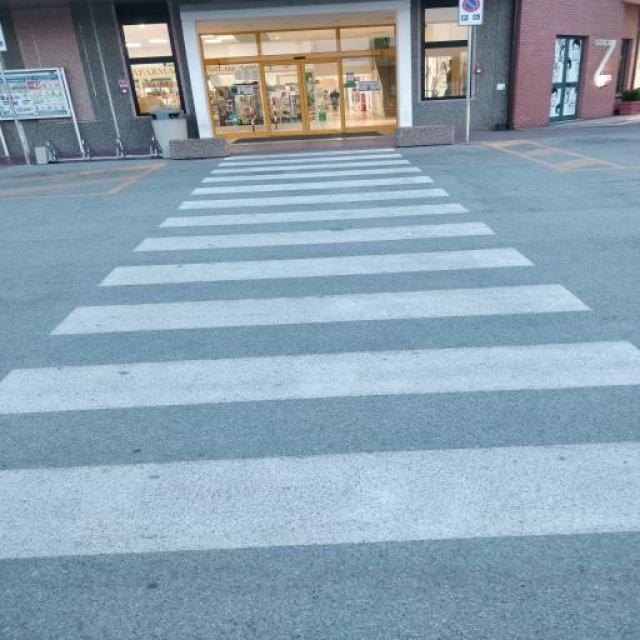crosswalk: (3, 148, 640, 559)
